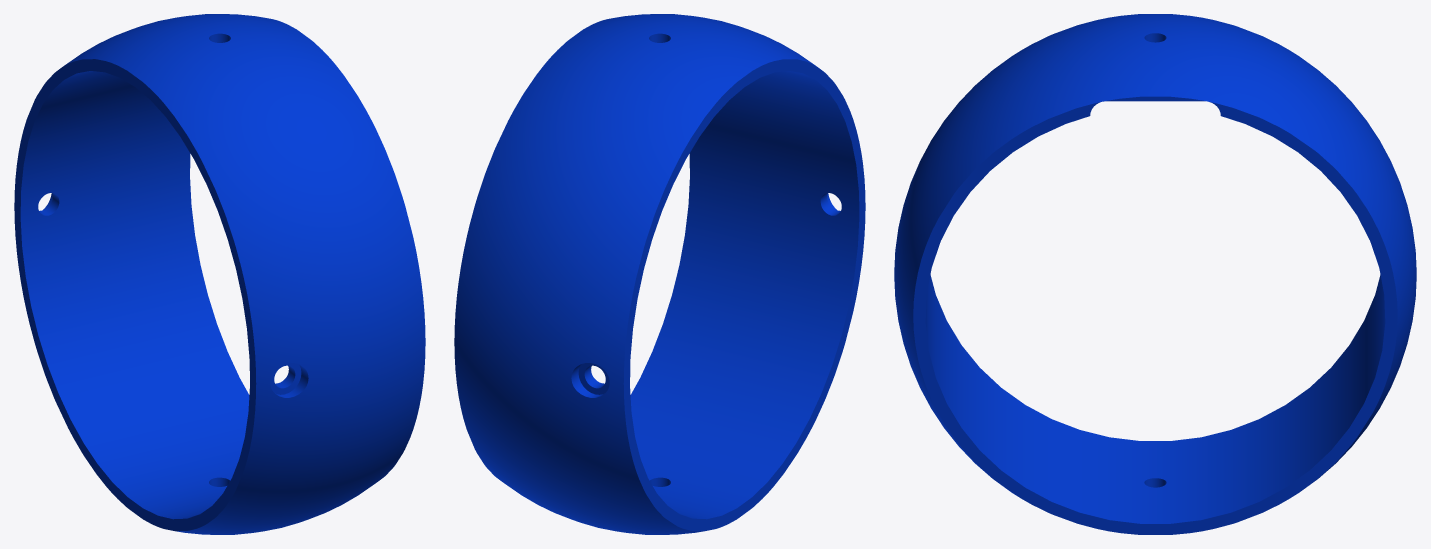
Rendered from TAILCONE1.gltf.
The picture shows the model from 3 angles, left to right: view 1: azimuth 30°, elevation 25°; view 2: azimuth 150°, elevation 25°; view 3: azimuth 270°, elevation 25°; orthographic projection.
Parts seen in each view (by area): view 1: TAILCONE1; view 2: TAILCONE1; view 3: TAILCONE1.
Boxes of the visible parts, bbox=[...] form: TAILCONE1: bbox=[14, 14, 425, 534]; TAILCONE1: bbox=[454, 14, 865, 534]; TAILCONE1: bbox=[894, 14, 1416, 534].
Bounding box in the file's own units: 0.0762 × 0.203 × 0.2032.
